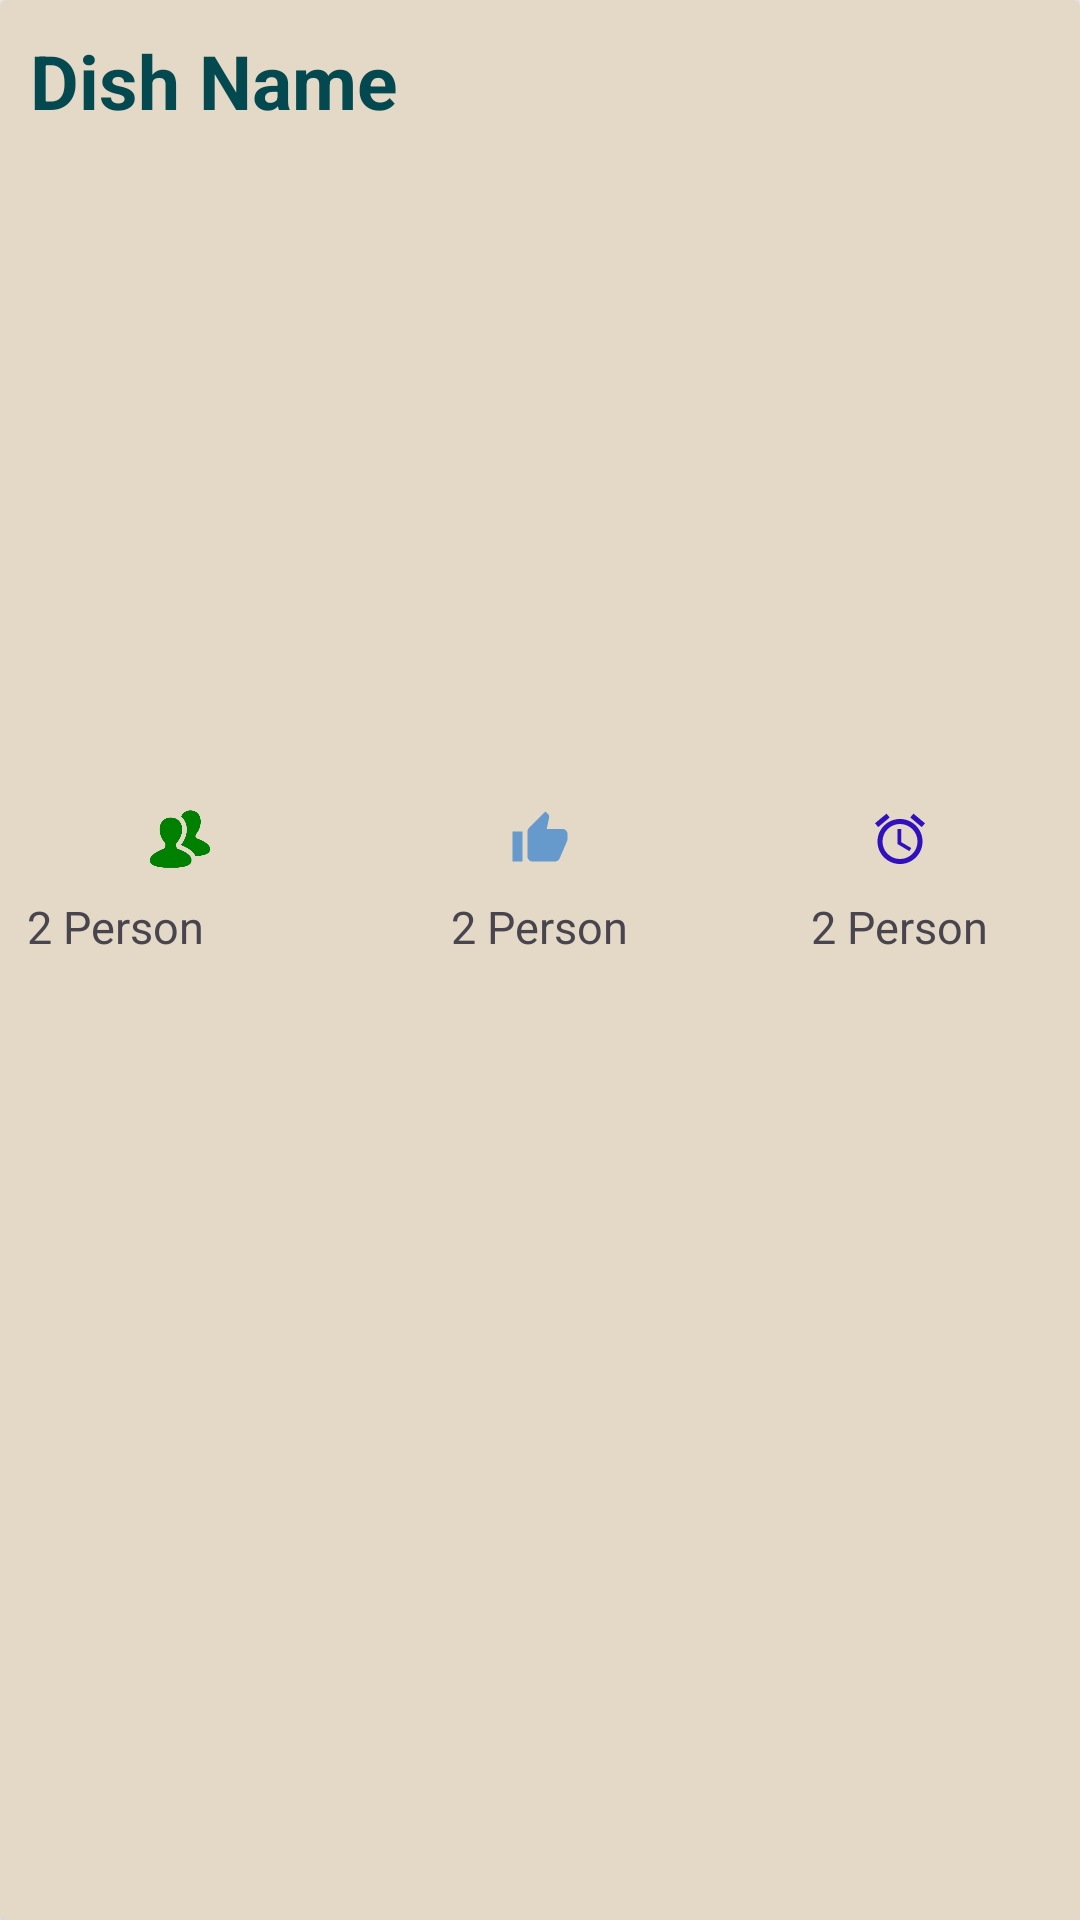

Icons on this 1080*1920 Android screen, each with the point to tap as (x=x, y=y):
alram: (x=900, y=838)
thumbup: (x=540, y=836)
